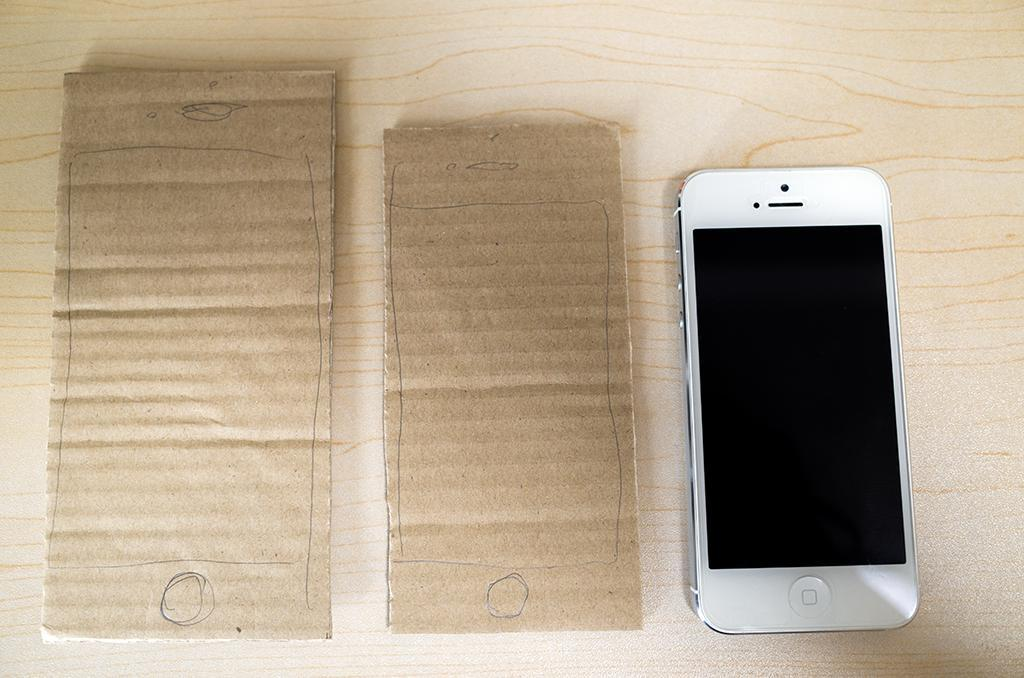mobile phone: (670, 161, 929, 638)
